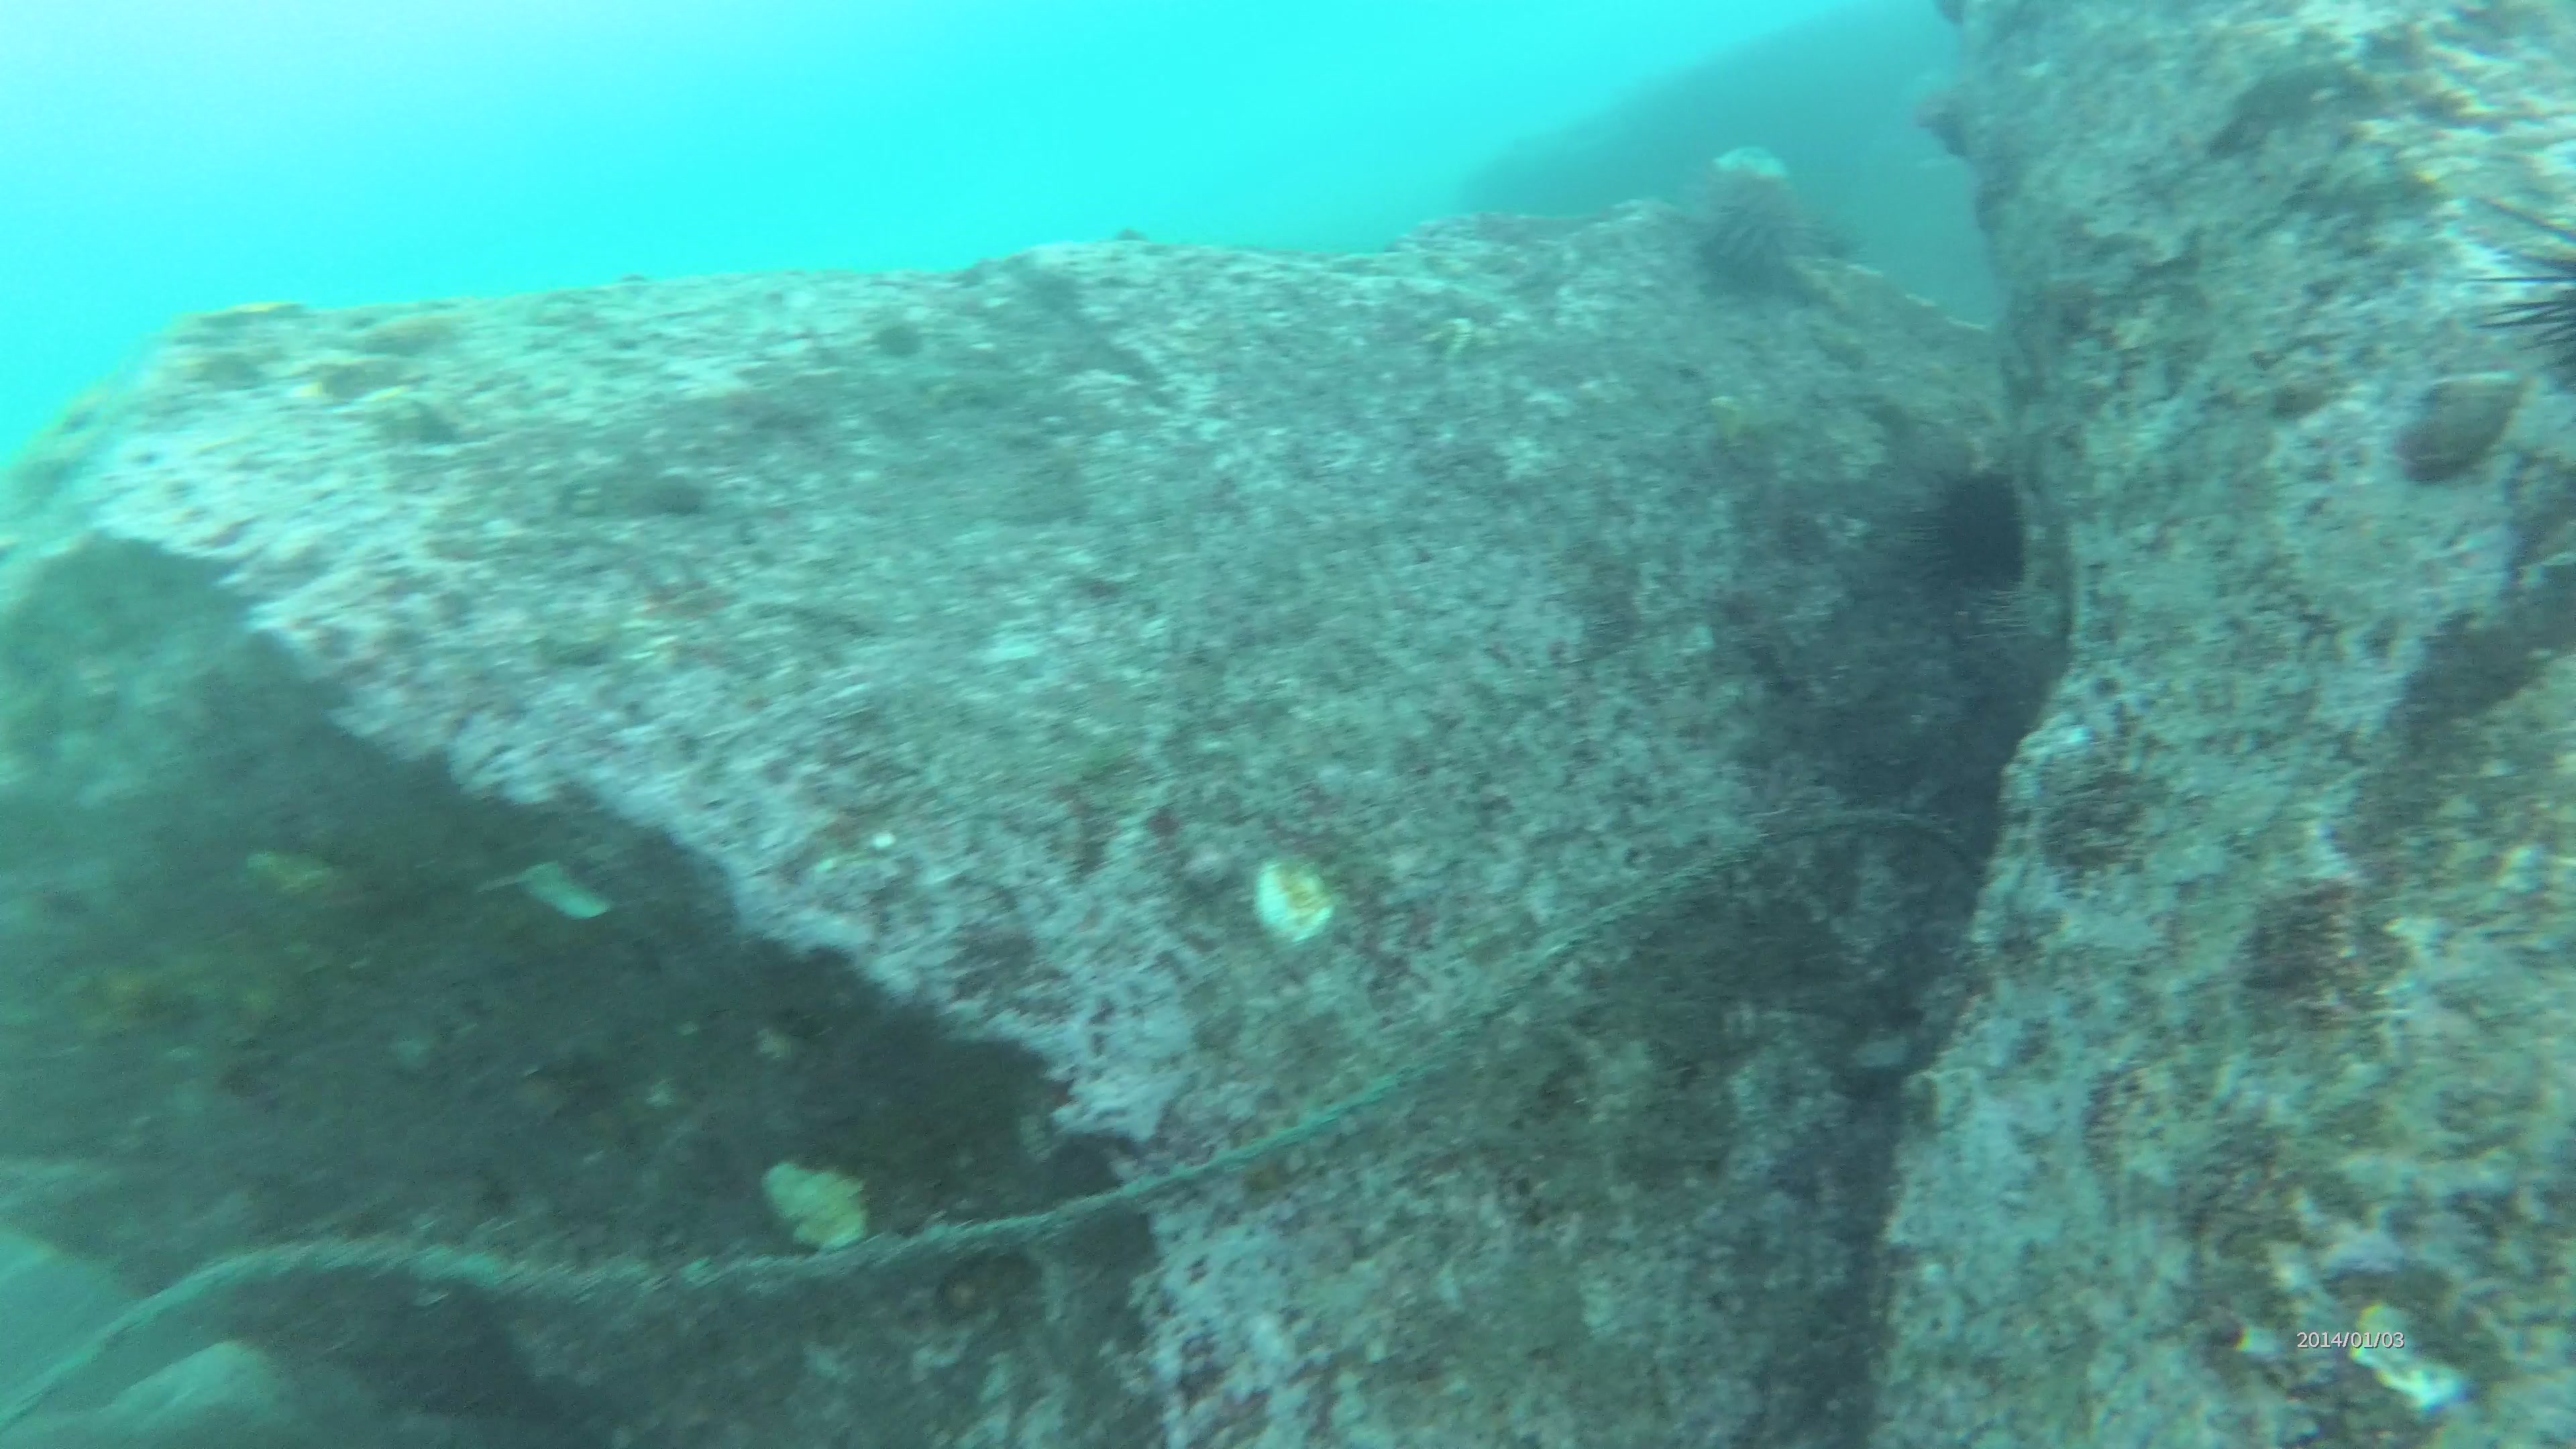echinus: (1916, 453, 2045, 616), (1684, 157, 1815, 299)
